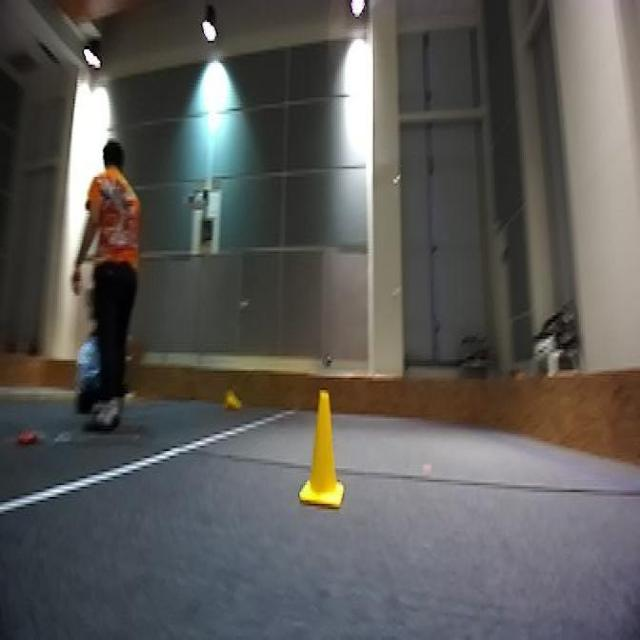frc_cone: (301, 390, 349, 509), (217, 386, 251, 417)
